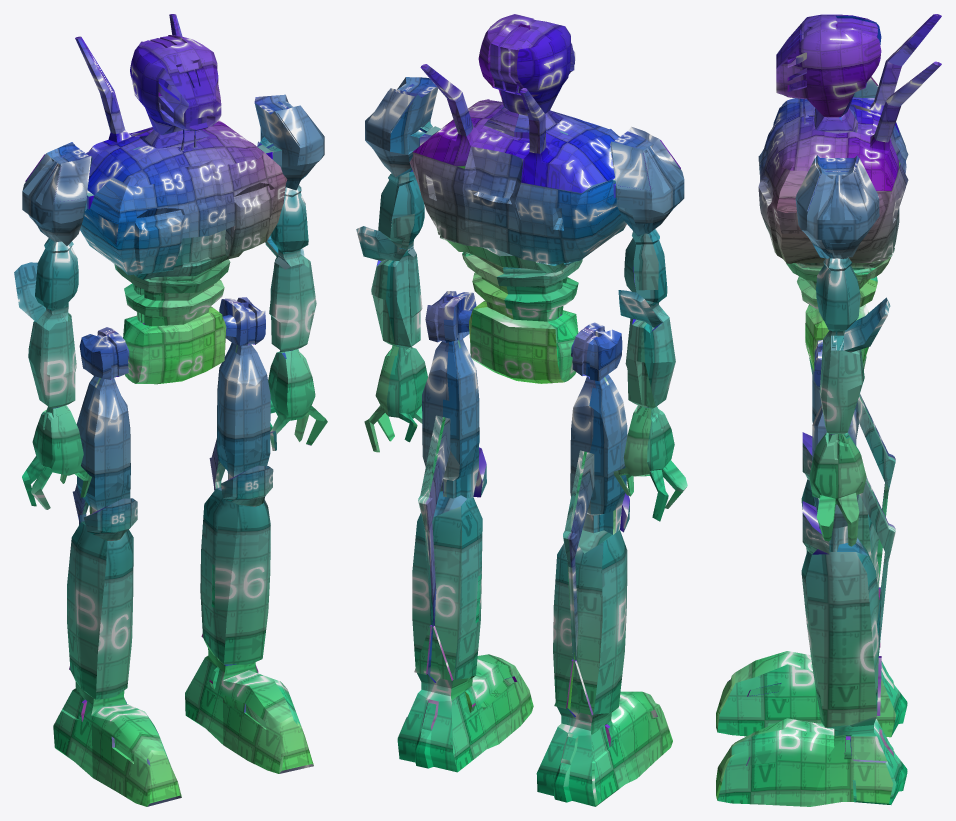
Rendered from UVMapRobot2.obj.
3 renders of one model, left to right at view 1: azimuth 30°, elevation 25°; view 2: azimuth 150°, elevation 25°; view 3: azimuth 270°, elevation 25°, orthographic. The views are drawn at different scales.
Visible parts, largest first — view 1: pCube3; view 2: pCube3; view 3: pCube3.
Boxes of the visible parts, box(x1,y1,x2,y2) form: pCube3: box(14, 14, 327, 806); pCube3: box(356, 14, 687, 806); pCube3: box(716, 14, 941, 806).
Bounding box in the file's own units: 10.99 × 25.09 × 6.97.
Materials: 1 (1 with a texture image).
